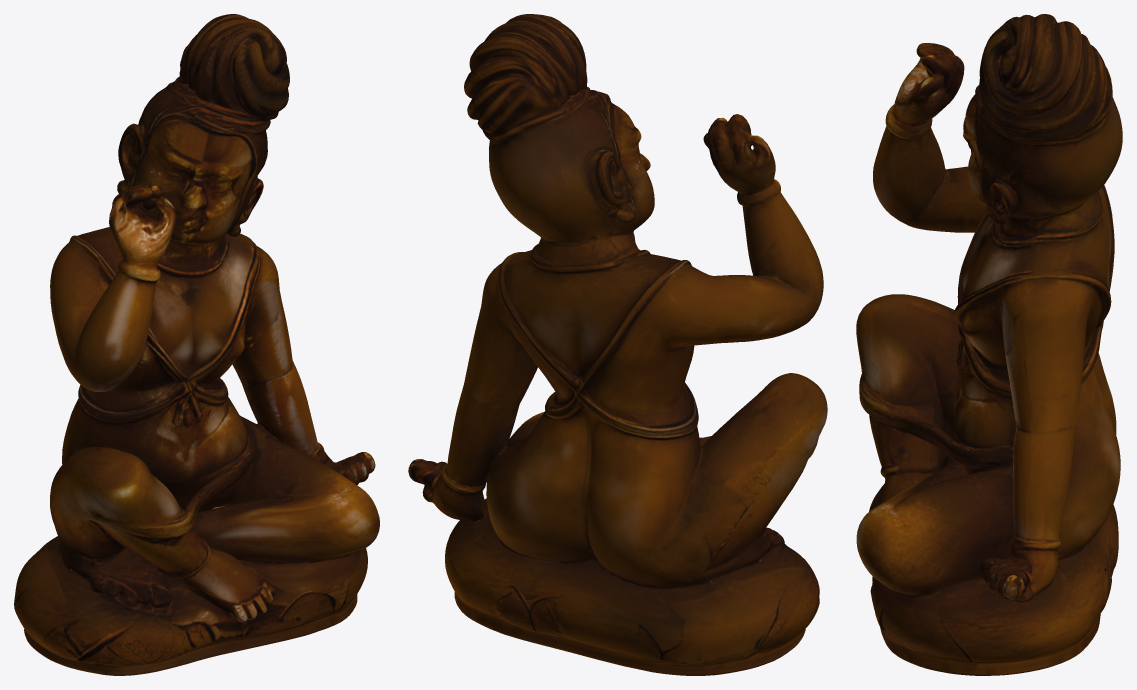
3 renders of one model, left to right at view 1: azimuth 30°, elevation 25°; view 2: azimuth 150°, elevation 25°; view 3: azimuth 270°, elevation 25°, orthographic. The views are drawn at different scales.
Visible parts, largest first — view 1: textured_mesh; view 2: textured_mesh; view 3: textured_mesh.
Part boxes in pixels (<box>): textured_mesh: <box>14,14,379,675</box>; textured_mesh: <box>408,14,827,675</box>; textured_mesh: <box>856,14,1122,675</box>.
Size of the model in its own units: 1.33 by 1.99 by 0.7835.
Materials: 1 (1 with a texture image).
